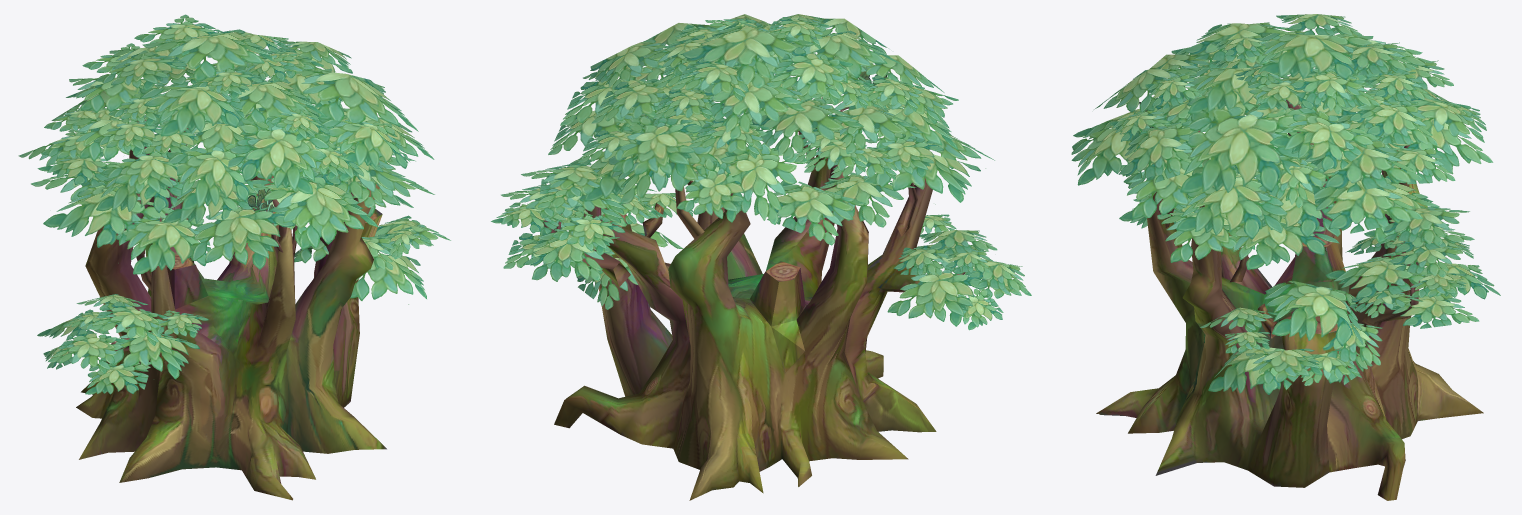
Rendered from map_shu04.FBX.
3 views of the same model, side by side, from view 1: azimuth 30°, elevation 25°; view 2: azimuth 150°, elevation 25°; view 3: azimuth 270°, elevation 25° (orthographic). The views are drawn at different scales.
Visible parts, largest first — view 1: map_shu04; view 2: map_shu04; view 3: map_shu04.
Part boxes in pixels (x1,y1,x2,y2): map_shu04: [18, 14, 450, 500]; map_shu04: [491, 14, 1031, 500]; map_shu04: [1071, 14, 1500, 500].
Bounding box in the file's own units: 12.72 × 10.79 × 11.
Materials: 1 (1 with a texture image).
